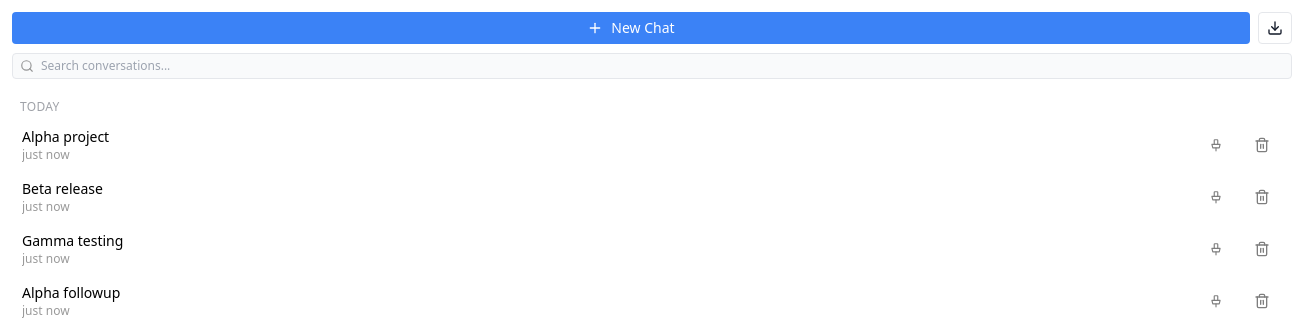
Test: Search result count badge › shows singular 'result' when only one match
This screenshot has width=1304, height=335.
Expected: the text "Beta release" is shown, [22,179,103,198]
In the field with test id "conversation-search": (652, 66) [12,53,1292,79], type "Beta"
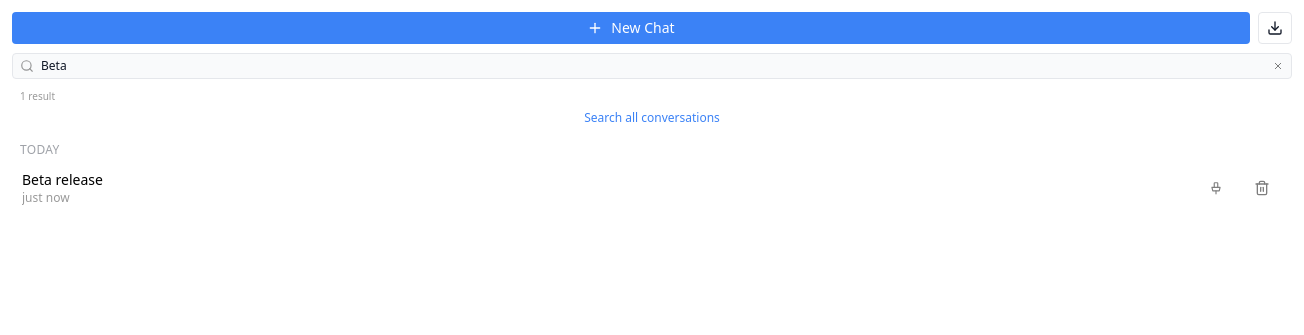
Result: the text with test id "search-result-count" reads "1 result" at [20,89,55,103]
